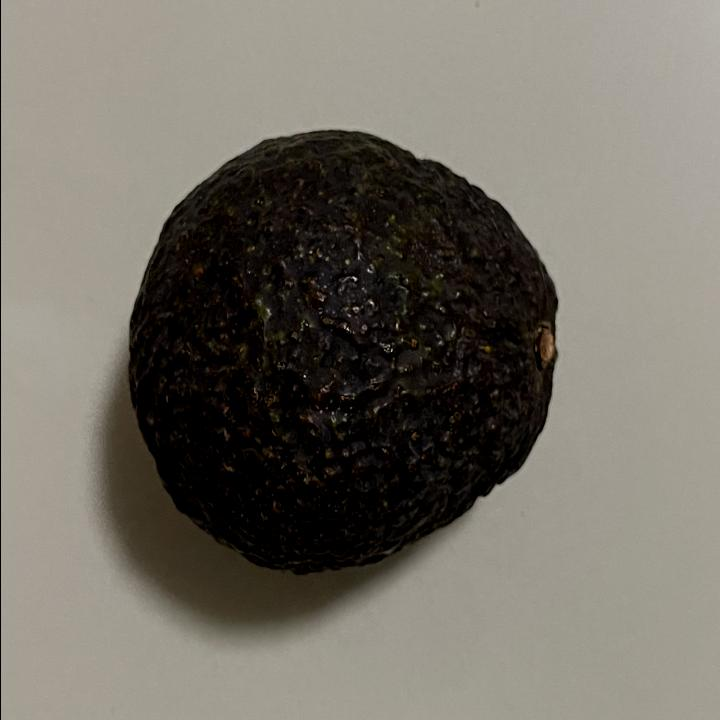Level2: (121, 119, 568, 584)
